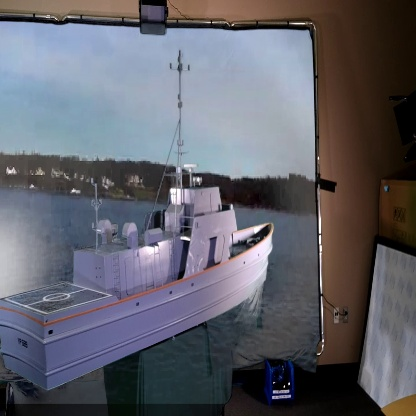YP689: (0, 54, 276, 393)
